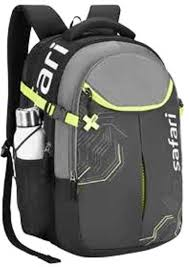backpack: (0, 3, 184, 263)
